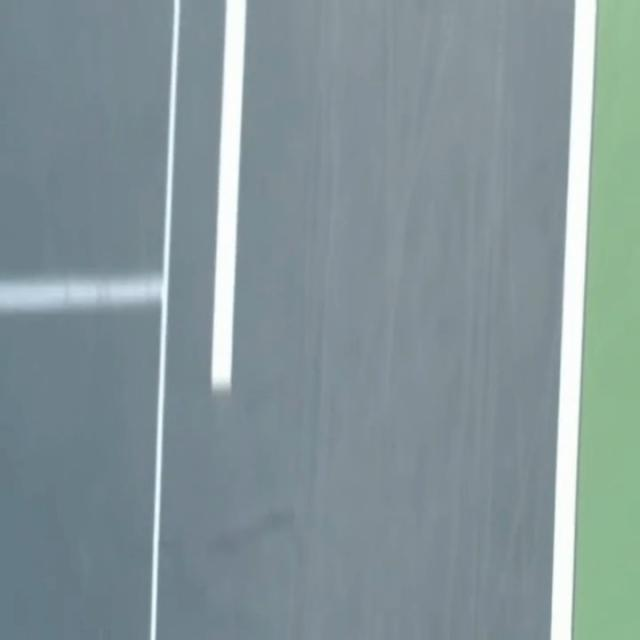center: (212, 0, 245, 393)
right: (550, 0, 596, 639)
